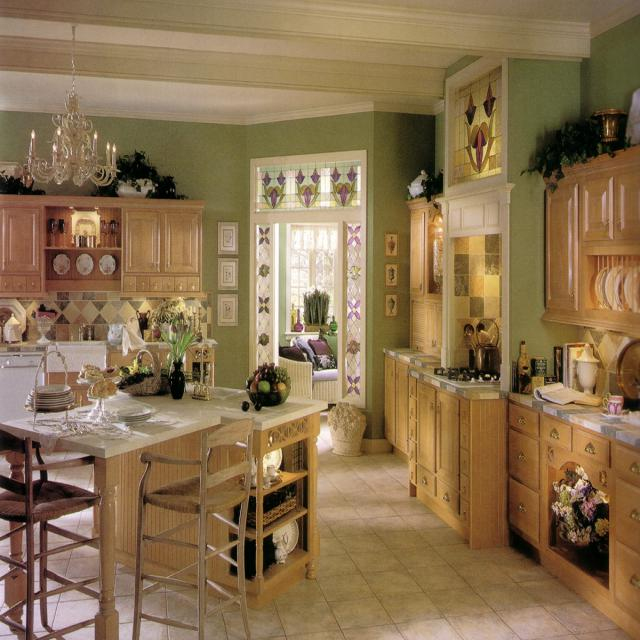2001: (287, 223, 344, 332)
2018: (47, 217, 70, 247), (100, 218, 121, 248)
basket crop: (116, 348, 184, 395), (247, 483, 301, 529), (327, 402, 367, 457)
bootles: (515, 331, 531, 388)
bottles occluded: (291, 299, 301, 331)
bowl -X: (408, 169, 430, 198)
bowl of garlic: (243, 362, 292, 405)
bowl of vegtables: (29, 304, 60, 345)
box of vegetables: (534, 355, 548, 375)
cabinets: (384, 353, 639, 640), (1, 195, 207, 298), (538, 145, 639, 336), (404, 194, 441, 358)
candle: (188, 299, 205, 343)
canister: (574, 343, 599, 393), (3, 310, 22, 344)
ceiling beam: (1, 1, 628, 116)
chair -occluded-: (131, 417, 256, 639), (0, 426, 113, 639), (278, 346, 310, 397)
chandelier: (23, 82, 118, 185)
cook books: (553, 341, 594, 393), (534, 381, 602, 407)
couch -x: (292, 331, 335, 401)
counter: (383, 346, 639, 447)
cup board: (263, 464, 279, 479)
dishwasher: (0, 351, 44, 421)
doilie: (27, 407, 179, 457)
faucet handle: (190, 340, 211, 398), (77, 317, 85, 340)
floor -X: (1, 412, 635, 640)
flowers: (153, 310, 204, 399)
flowers in pot: (549, 462, 610, 556)
forks: (66, 420, 96, 435)
jar -X: (433, 216, 441, 293)
pastries: (79, 362, 121, 378), (88, 380, 115, 398)
picture crop: (217, 218, 239, 252), (217, 293, 237, 327), (217, 257, 238, 287), (383, 260, 399, 286), (384, 292, 398, 319), (98, 252, 115, 274), (76, 253, 93, 274), (384, 231, 397, 256)
pillow occluded: (309, 335, 333, 351), (314, 354, 335, 370), (283, 346, 301, 359)
pitcher: (274, 530, 290, 564), (105, 323, 126, 344)
plant -x: (521, 117, 632, 193), (116, 150, 155, 196), (407, 171, 443, 211), (1, 173, 47, 194)
plate food: (244, 432, 283, 485), (615, 337, 639, 409), (275, 519, 300, 555), (52, 252, 70, 274)
plates: (593, 264, 638, 312), (113, 403, 160, 427), (1, 298, 26, 342)
platter of food: (70, 210, 102, 247), (624, 87, 639, 144), (2, 160, 23, 180)
plum: (239, 399, 249, 410), (253, 400, 261, 410)
potted flowers: (150, 298, 187, 341)
rafter: (0, 1, 590, 61), (0, 35, 445, 97)
saucers and tea cups: (601, 393, 630, 420)
sink basin: (46, 337, 106, 370), (175, 380, 243, 405)
stack of plates: (24, 382, 76, 409)
stained glass window: (447, 60, 502, 187), (251, 157, 362, 214), (340, 219, 362, 400), (255, 223, 273, 361)
stovetop: (420, 363, 507, 385)
tea canister: (532, 375, 546, 395), (545, 373, 558, 385)
tea pot: (465, 316, 501, 373)
towel basket: (121, 324, 148, 356)
urn: (591, 109, 628, 153), (18, 161, 36, 188)
utencils: (462, 319, 502, 346)
vase -X: (135, 306, 150, 337), (158, 174, 174, 197), (329, 310, 338, 329)
wall clock: (1, 1, 639, 454)
